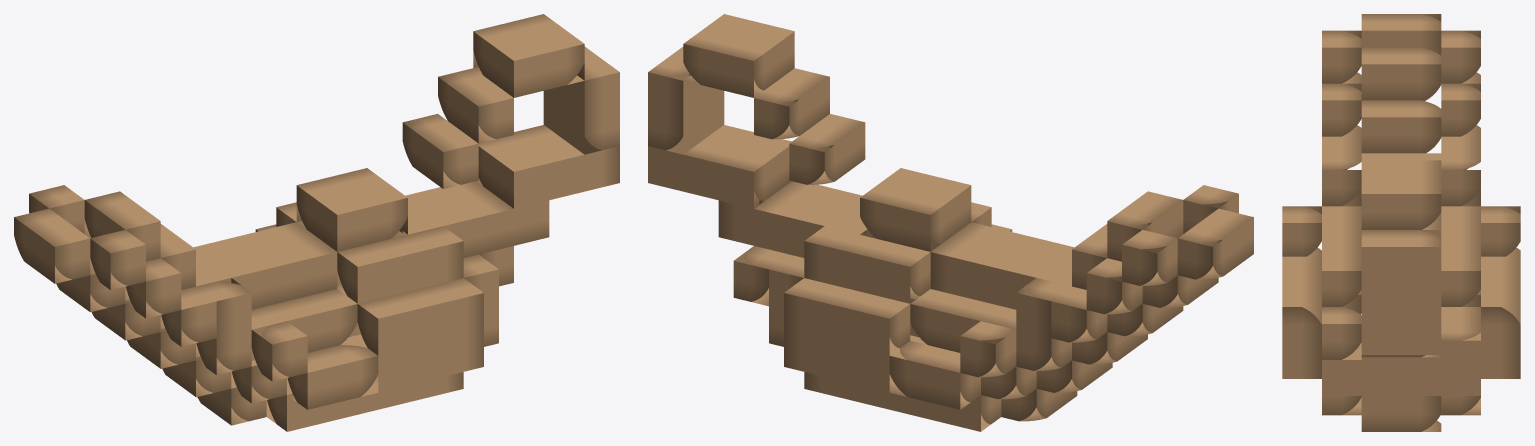
The model's file is OilLamp1.obj.
3 views of the same model, side by side, from view 1: azimuth 30°, elevation 25°; view 2: azimuth 150°, elevation 25°; view 3: azimuth 270°, elevation 25° (orthographic). The views are drawn at different scales.
Visible parts, largest first — view 1: Model; view 2: Model; view 3: Model.
Boxes of the visible parts, x1,y1,x2,y2 form: Model: (14, 14, 619, 431); Model: (648, 14, 1253, 431); Model: (1282, 14, 1520, 431).
Size of the model in its own units: 8 by 4 by 3.
1 material, 1 textured.
